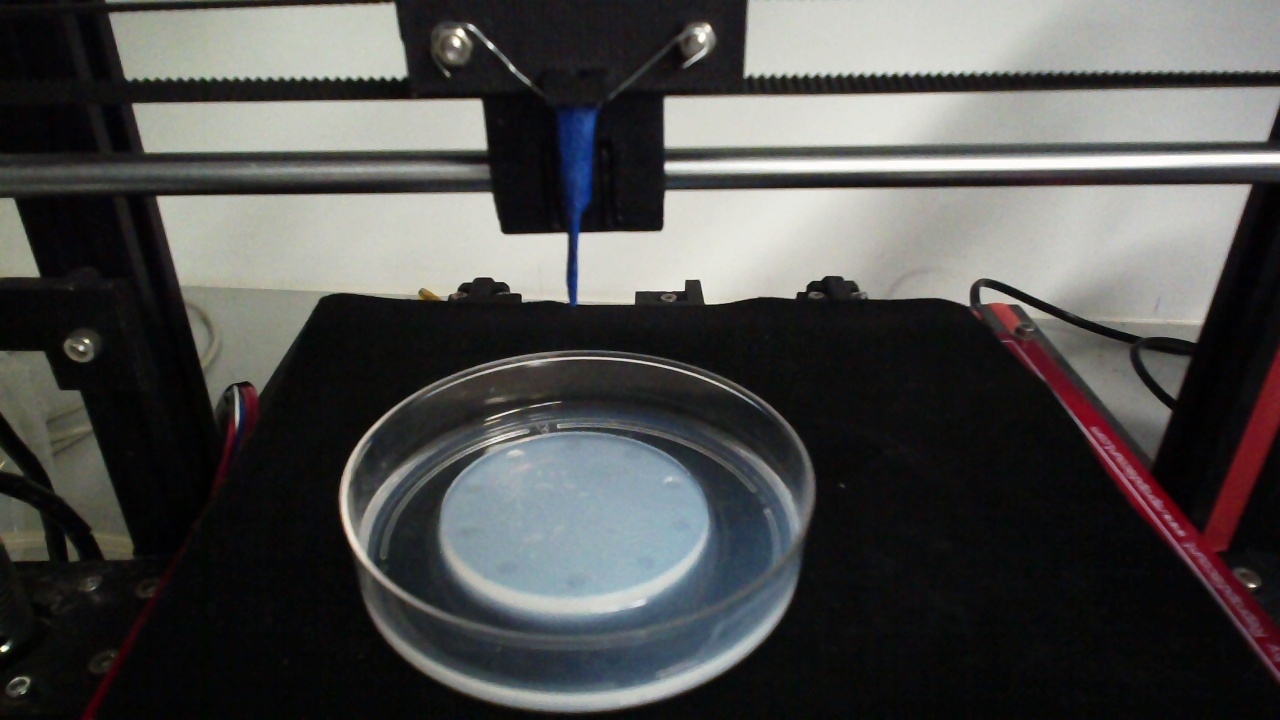groove: (564, 569, 588, 591), (492, 558, 519, 577), (455, 524, 483, 541), (667, 516, 692, 535), (634, 552, 656, 572), (661, 475, 684, 492), (503, 448, 527, 464), (462, 479, 485, 495), (562, 437, 585, 453), (622, 447, 644, 462)
needle: (557, 109, 597, 307)
